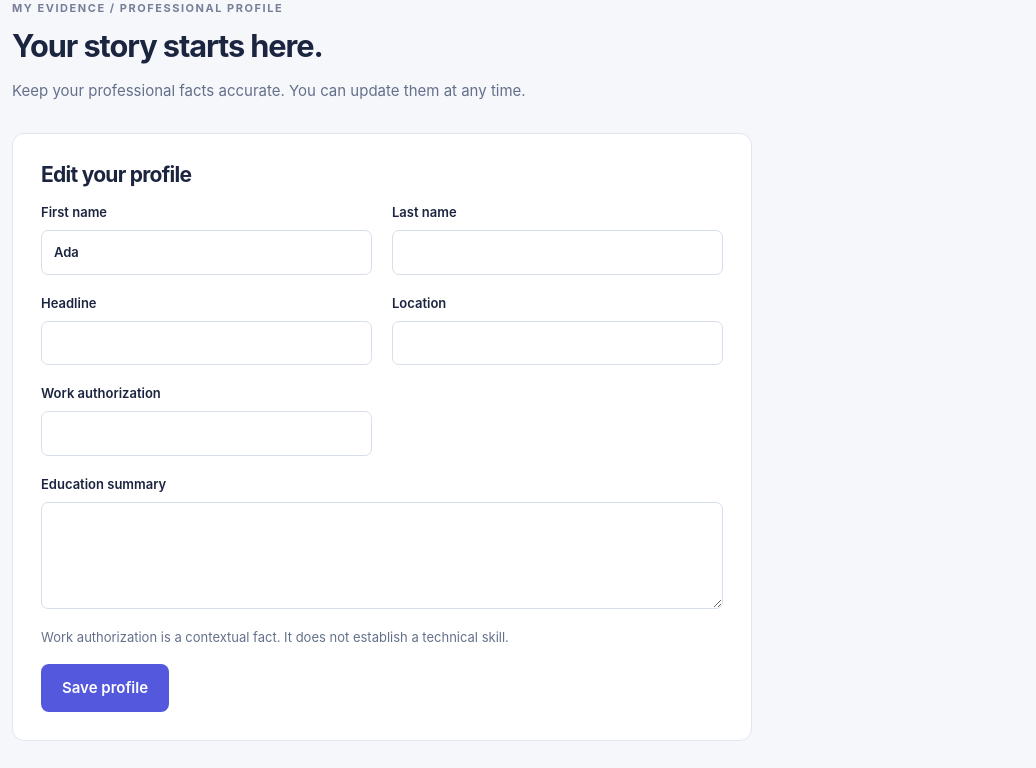
profile review › preserves entered facts after save failure and allows retry
Type "Engineer" into the field labelled "Headline" at (206,343), box [41,321,372,365]
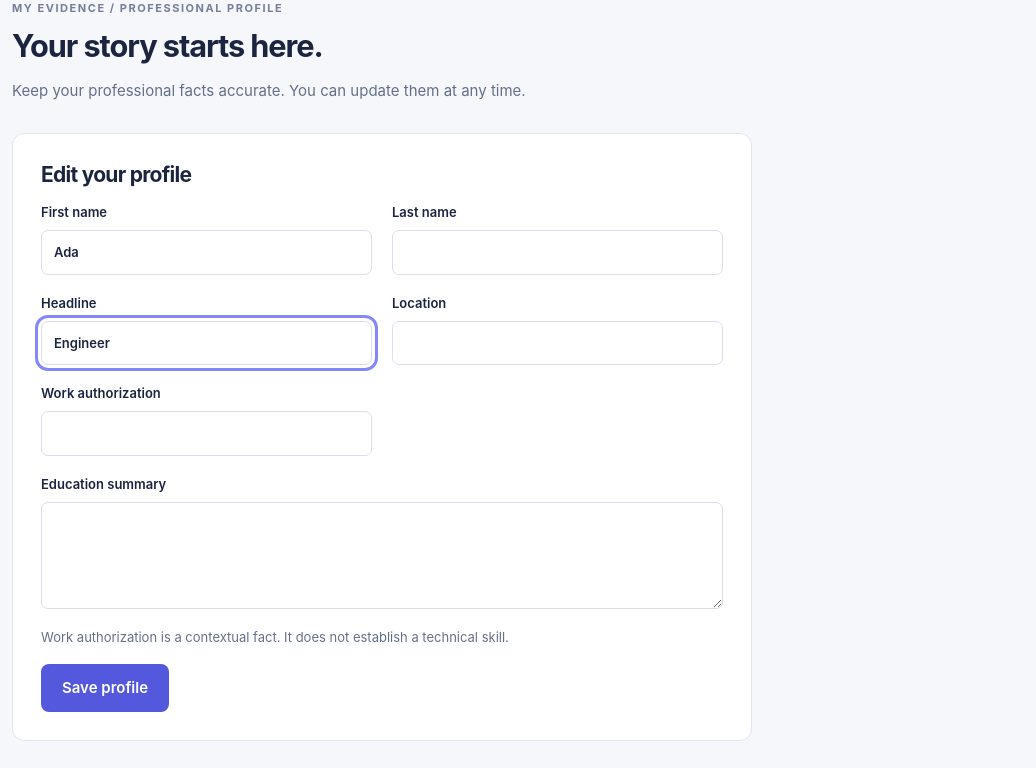
Click the button "Save profile" at (105,688), box [41,664,169,712]
(page scrolled)
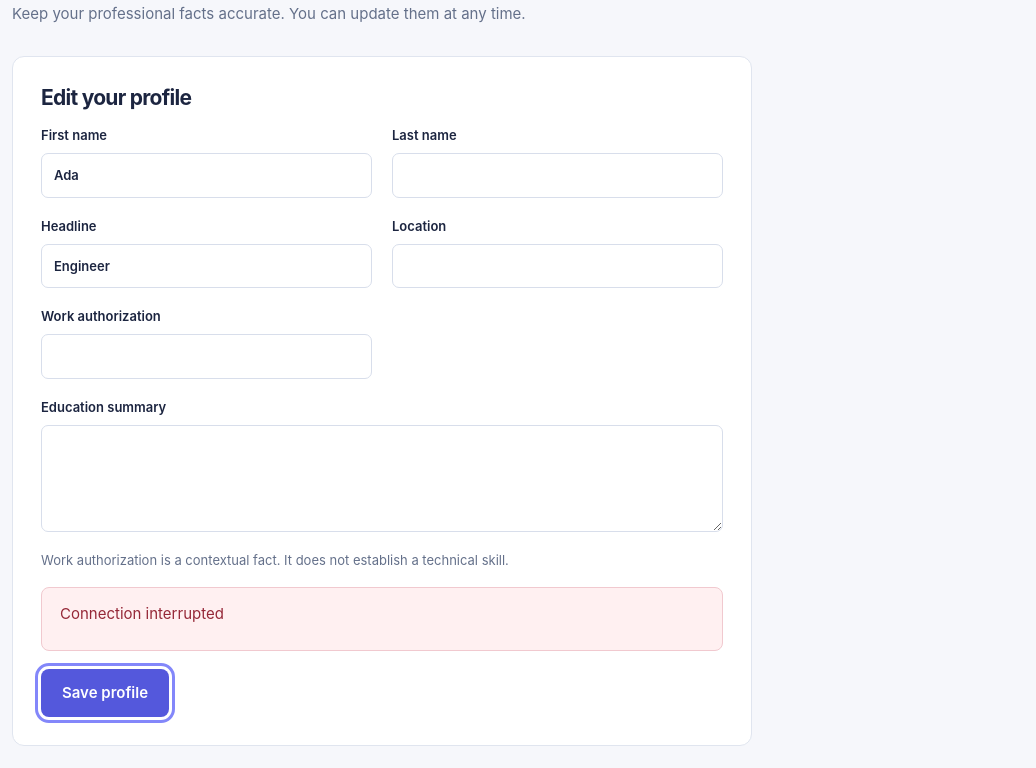
Result: the message reads "Connection interrupted" at [60,604,224,623]
Click the button "Save profile" at (105,693), box [41,669,169,717]
(page scrolled)
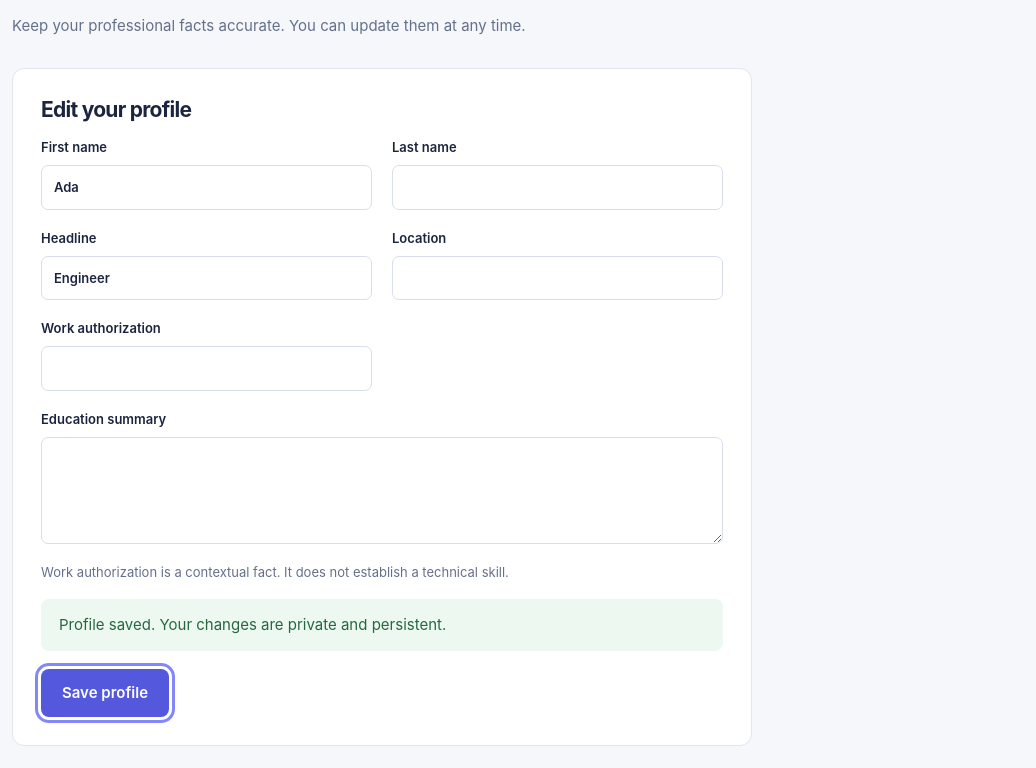
Result: the message shows "Profile saved" at [59,615,446,634]
